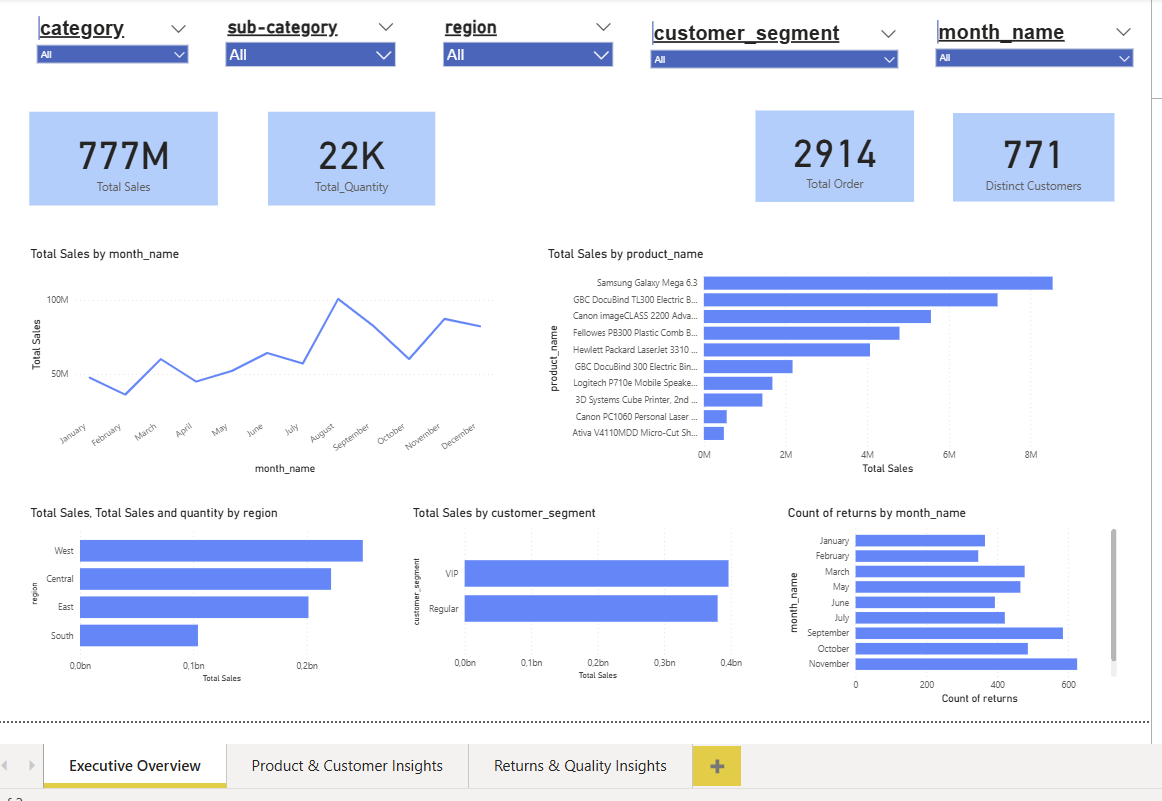

What the dashboard file says about the page in this screenshot:
{"tool":"powerbi","page":{"name":"Executive Overview","canvas":[1600,1000],"ordinal":0},"visuals":[{"type":"slicer","fields":{"Values":["sales_clean.category"]},"box":[50.1,20.7,229.8,79.5],"z":0},{"type":"slicer","fields":{"Values":["sales_clean.month_name"]},"box":[1292.4,25.9,293.7,95],"z":1000},{"type":"slicer","fields":{"Values":["sales_clean.region"]},"box":[611.7,20.7,255.7,79.5],"z":2000},{"type":"card","fields":{"Values":["sales_clean.Total Sales"]},"box":[50.1,157.2,260.9,129.6],"z":3000},{"type":"card","fields":{"Values":["sales_clean.Total Order"]},"box":[1054,155.5,219.4,126.1],"z":5000},{"type":"card","fields":{"Values":["sales_clean.Distinct Customers"]},"box":[1327,159,222.9,122.7],"z":6000},{"type":"card","fields":{"Values":["sales_clean.Total_Quantity"]},"box":[380.1,157.2,231.5,129.6],"z":7000},{"type":"slicer","fields":{"Values":["sales_clean.customer_segment"]},"box":[898.5,27.6,362.9,84.7],"z":8000},{"type":"lineChart","fields":{"Y":["sales_clean.Total Sales"],"Category":["sales_clean.month_name"]},"box":[46.7,343.8,651.4,319.7],"z":9000},{"type":"clusteredBarChart","fields":{"Category":["sales_clean.product_name"],"Y":["sales_clean.Total Sales"]},"box":[762,343.8,743,319.7],"z":10000},{"type":"clusteredBarChart","fields":{"Category":["sales_clean.region"],"Y":["sales_clean.Total Sales"]},"box":[46.7,701.5,485.5,250.5],"z":11000},{"type":"clusteredBarChart","fields":{"Category":["sales_clean.customer_segment"],"Y":["sales_clean.Total Sales"]},"box":[575.4,701.5,464.8,245.4],"z":12000},{"type":"clusteredBarChart","fields":{"Y":["CountNonNull(sales_clean.returns)"],"Category":["sales_clean.month_name"]},"box":[1093.7,701.5,464.8,279.9],"z":13000},{"type":"slicer","fields":{"Values":["sales_clean.sub-category"]},"box":[311,20.7,255.7,79.5],"z":14000}]}

Visuals, with their boxes on the page's 1600x1000 design canvas (x1, y1, x2, y2). These are canvas units, not pixel positions in the 1162x801 screenshot, which may show the page scaled, cropped or inside an application window:
slicer - sales_clean.category: 50,21,280,100
slicer - sales_clean.month_name: 1292,26,1586,121
slicer - sales_clean.region: 612,21,867,100
card - sales_clean.Total Sales: 50,157,311,287
card - sales_clean.Total Order: 1054,156,1273,282
card - sales_clean.Distinct Customers: 1327,159,1550,282
card - sales_clean.Total_Quantity: 380,157,612,287
slicer - sales_clean.customer_segment: 898,28,1261,112
lineChart - sales_clean.Total Sales x sales_clean.month_name: 47,344,698,664
clusteredBarChart - sales_clean.product_name x sales_clean.Total Sales: 762,344,1505,664
clusteredBarChart - sales_clean.region x sales_clean.Total Sales: 47,702,532,952
clusteredBarChart - sales_clean.customer_segment x sales_clean.Total Sales: 575,702,1040,947
clusteredBarChart - CountNonNull(sales_clean.returns) x sales_clean.month_name: 1094,702,1558,981
slicer - sales_clean.sub-category: 311,21,567,100
